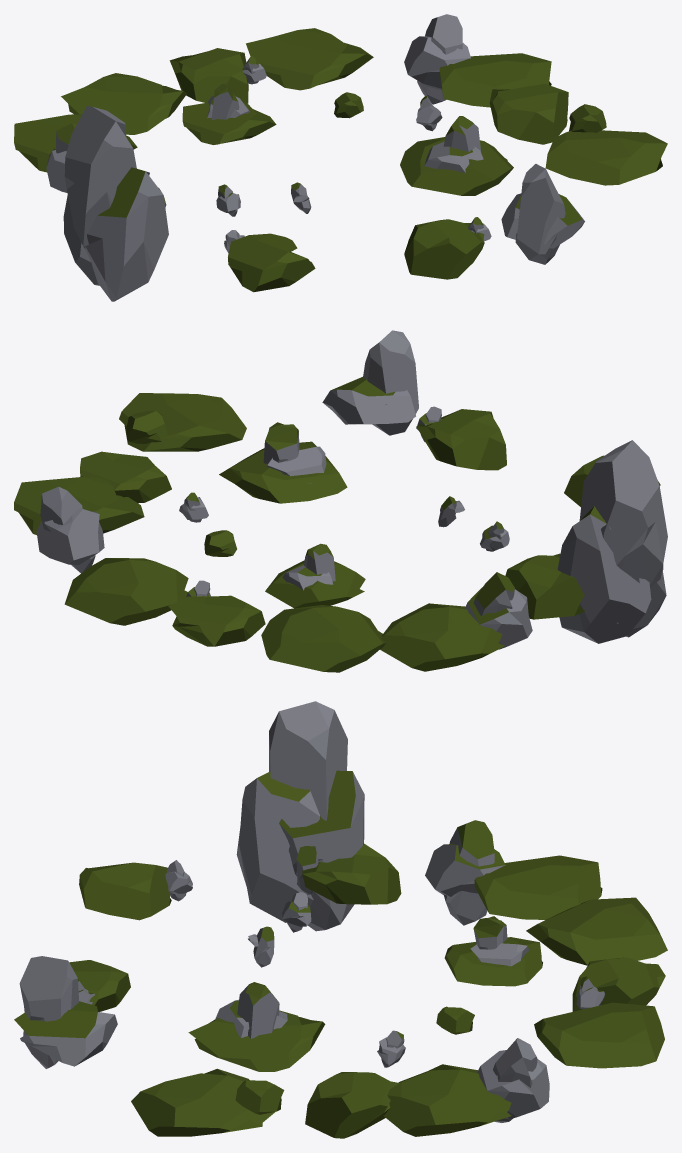
The model's file is stone-s1.fbx.
The picture shows the model from 3 angles, top to bottom: view 1: azimuth 30°, elevation 25°; view 2: azimuth 150°, elevation 25°; view 3: azimuth 270°, elevation 25°; orthographic projection. The views are drawn at different scales.
Parts seen in each view (by area): view 1: Cube.033, Cube.032, Cube.003, Cube.019, Cube.020, Cube.009, Cube.051, Cube.021, Cube.015, Cube.030, Cube.002, Cube.043 (+12 smaller); view 2: Cube.032, Cube.031, Cube.020, Cube.019, Cube.014, Cube.003, Cube.021, Cube.009, Cube.043, Cube.030, Cube.048, Cube.001 (+15 smaller); view 3: Cube.033, Cube.019, Cube.020, Cube.009, Cube.003, Cube.014, Cube.032, Cube.031, Cube.030, Cube.051, Cube.015, Cube.048 (+17 smaller).
Boxes of the visible parts, box(x1,y1,x2,y2) form: Cube.033: box(85, 167, 168, 301); Cube.032: box(64, 106, 136, 248); Cube.003: box(545, 130, 667, 185); Cube.019: box(246, 28, 373, 90); Cube.020: box(61, 73, 186, 134); Cube.009: box(439, 53, 551, 107); Cube.051: box(489, 84, 568, 144); Cube.021: box(404, 219, 484, 279); Cube.015: box(228, 233, 315, 292); Cube.030: box(400, 137, 513, 195); Cube.002: box(515, 164, 565, 264); Cube.043: box(169, 48, 248, 103); Cube.032: box(579, 440, 667, 587); Cube.031: box(557, 506, 651, 643); Cube.020: box(261, 605, 385, 672); Cube.019: box(64, 558, 188, 625); Cube.014: box(380, 603, 504, 671); Cube.003: box(119, 393, 246, 451); Cube.021: box(416, 409, 506, 470); Cube.009: box(14, 477, 144, 534); Cube.043: box(168, 595, 265, 646); Cube.030: box(219, 441, 347, 503); Cube.048: box(505, 553, 584, 619); Cube.001: box(322, 377, 415, 424); Cube.033: box(236, 771, 319, 922); Cube.019: box(534, 1002, 664, 1068); Cube.020: box(526, 897, 667, 965); Cube.009: box(383, 1064, 511, 1136); Cube.003: box(131, 1068, 274, 1136); Cube.014: box(474, 855, 602, 919); Cube.032: box(269, 701, 347, 820); Cube.031: box(279, 770, 364, 931); Cube.030: box(188, 1010, 325, 1071); Cube.051: box(305, 1072, 399, 1138); Cube.015: box(79, 862, 171, 920); Cube.048: box(302, 843, 401, 904).
Size of the model in its own units: 110 by 36.4 by 99.59.
